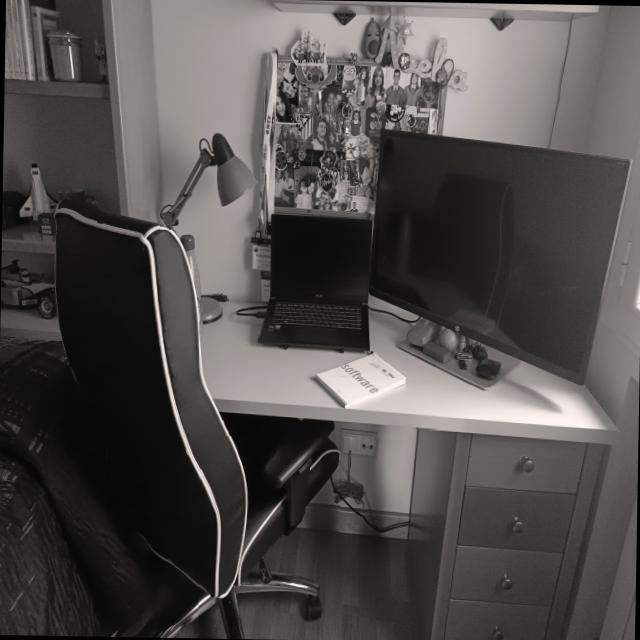bed: (0, 339, 198, 637)
book: (312, 353, 406, 409)
bookshelf: (102, 0, 165, 224), (4, 79, 108, 99), (1, 234, 54, 253)
cabinet: (408, 429, 611, 640)
chair: (55, 200, 341, 638)
lamp: (161, 133, 256, 229), (201, 297, 222, 324)
laptop: (259, 209, 373, 352)
monitor: (370, 129, 630, 387)
pillow: (263, 0, 600, 26)
stove: (199, 298, 617, 442), (0, 307, 60, 340)
